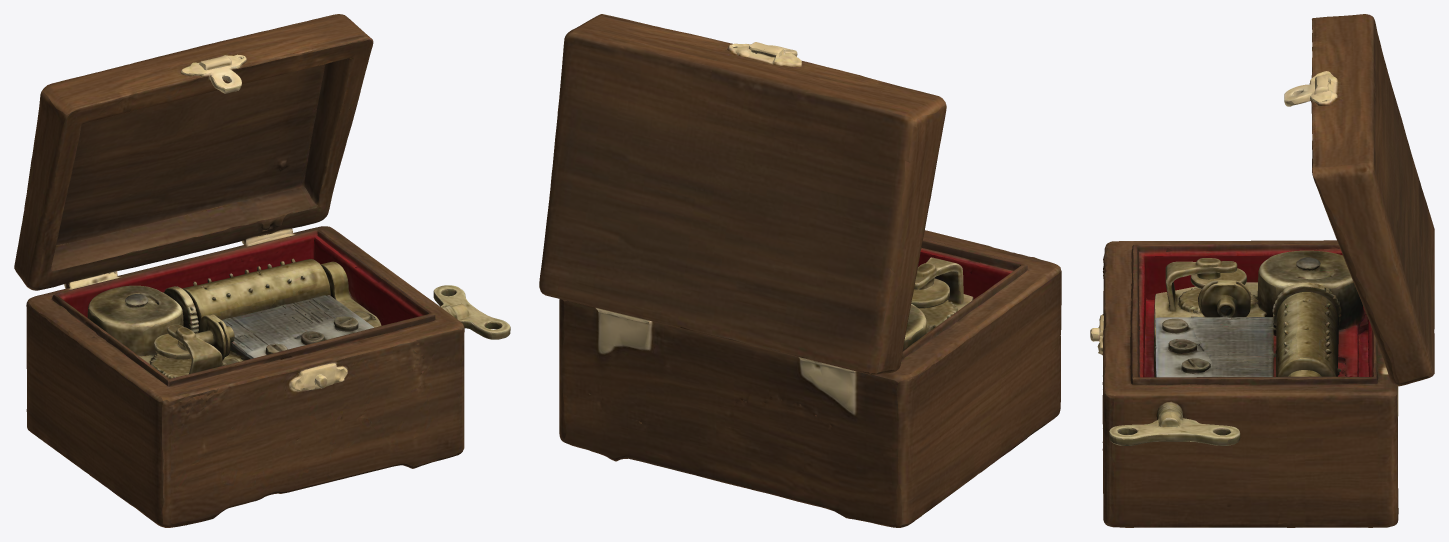
The model's file is parts.glb.
3 views of the same model, side by side, from view 1: azimuth 30°, elevation 25°; view 2: azimuth 150°, elevation 25°; view 3: azimuth 270°, elevation 25° (orthographic). The views are drawn at different scales.
Size of the model in its own units: 0.16 by 0.1552 by 0.1277.
Materials: 5 (5 with a texture image).
